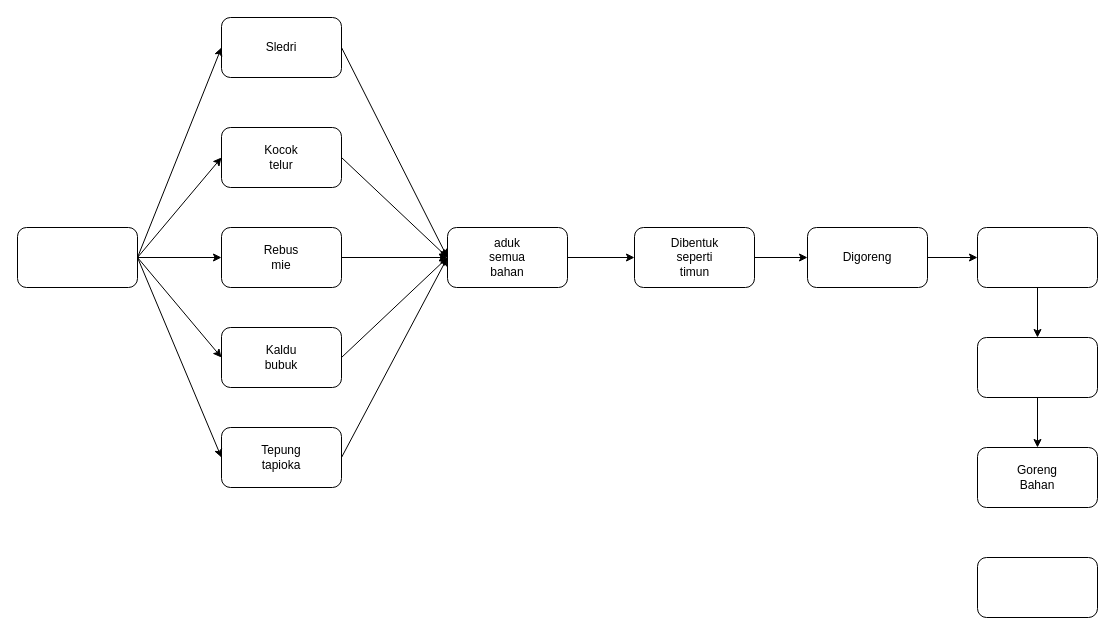
Image size: 1115x635. Some labels were removed from this diagram. Each missing label, with the centre of its shape:
"Pengemasan" belongs at [1037,587].
"Potong Bahan Tipis-tipis" belongs at [1037,367].
"Siapkan Bahan" belongs at [77,257].
"Tunggu hingga dingin" belongs at [1037,257].
